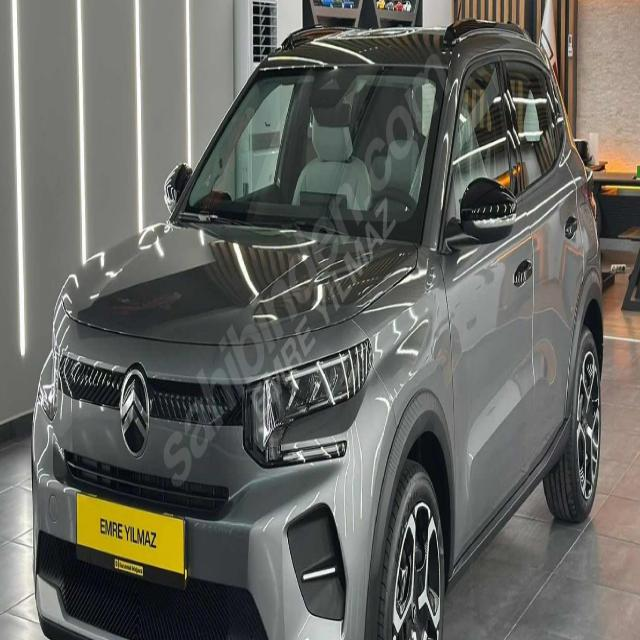citroen: (115, 357, 157, 458)
